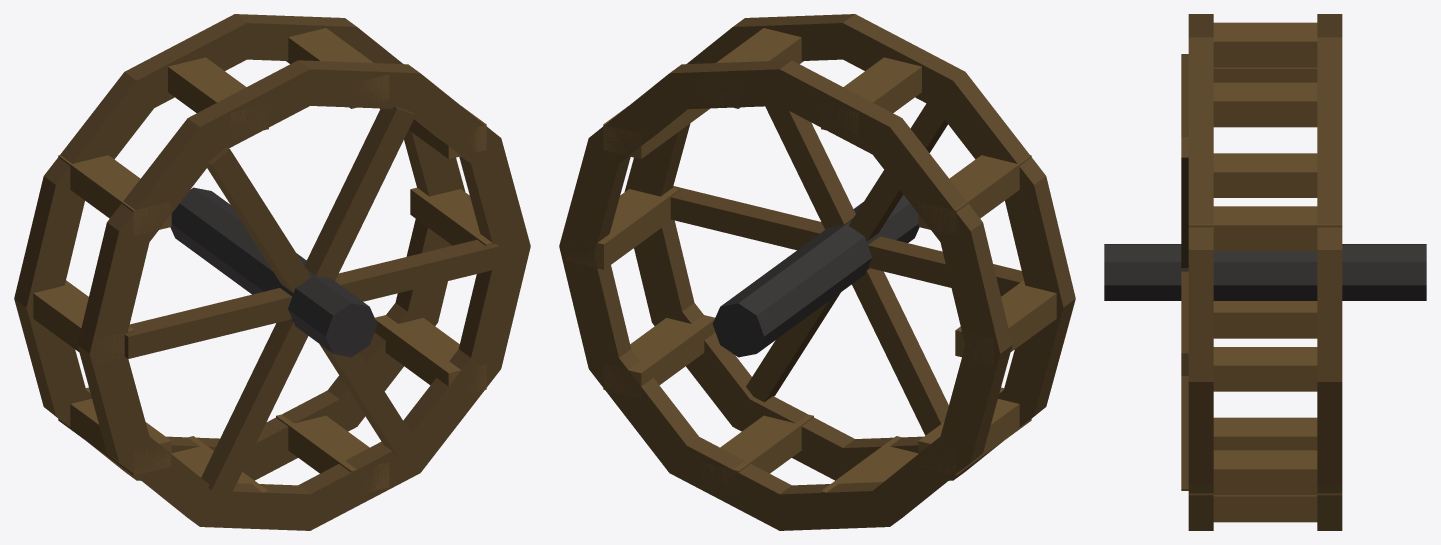
Rendered from waterwheel.glb.
3 renders of one model, left to right at view 1: azimuth 30°, elevation 25°; view 2: azimuth 150°, elevation 25°; view 3: azimuth 270°, elevation 25°, orthographic.
Parts seen in each view (by area): view 1: waterwheel; view 2: waterwheel; view 3: waterwheel.
Part boxes in pixels (bbox=[...]): waterwheel: bbox=[14, 14, 530, 530]; waterwheel: bbox=[559, 14, 1075, 530]; waterwheel: bbox=[1104, 14, 1426, 530].
Bounding box in the file's own units: 2.9 × 2.9 × 1.8.
